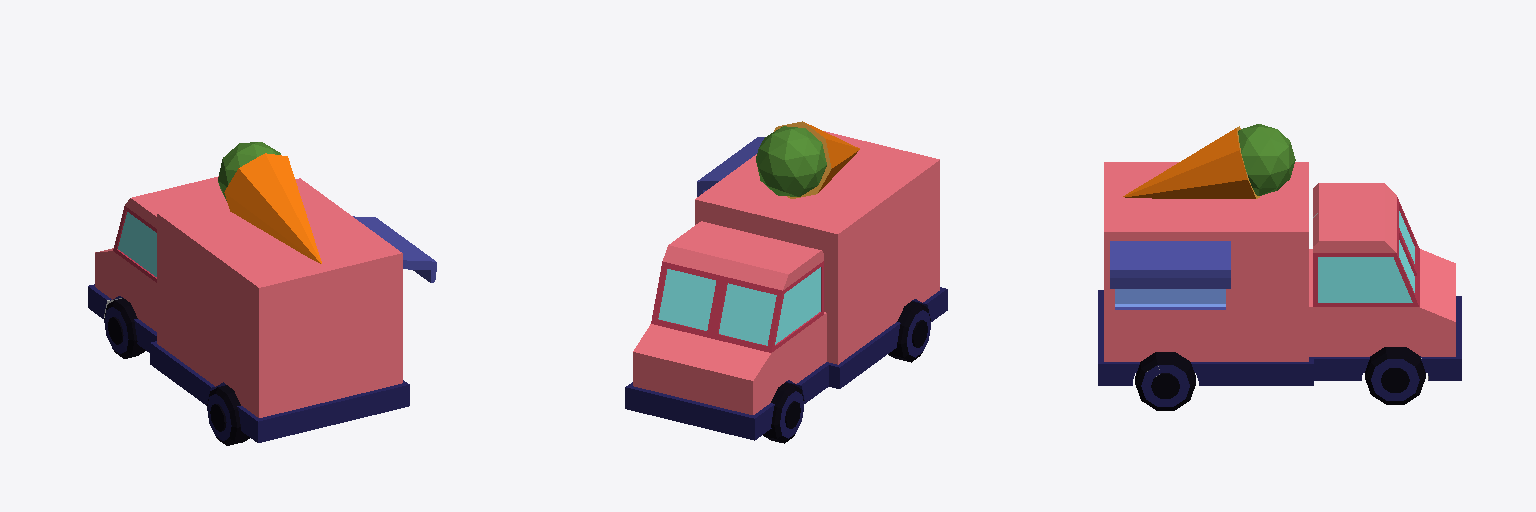
File: ice_truck.obj
3 renders of one model, left to right at view 1: azimuth 30°, elevation 25°; view 2: azimuth 150°, elevation 25°; view 3: azimuth 270°, elevation 25°, orthographic.
Parts seen in each view (by area): view 1: ice_truck:ice_truck:icecream_truck group; view 2: ice_truck:ice_truck:icecream_truck group; view 3: ice_truck:ice_truck:icecream_truck group.
Boxes of the visible parts, x1=… form: ice_truck:ice_truck:icecream_truck group: x1=88, y1=142, x2=436, y2=445; ice_truck:ice_truck:icecream_truck group: x1=625, y1=121, x2=947, y2=443; ice_truck:ice_truck:icecream_truck group: x1=1098, y1=124, x2=1461, y2=410.
Bounding box in the file's own units: 22.15 × 27.18 × 36.4.